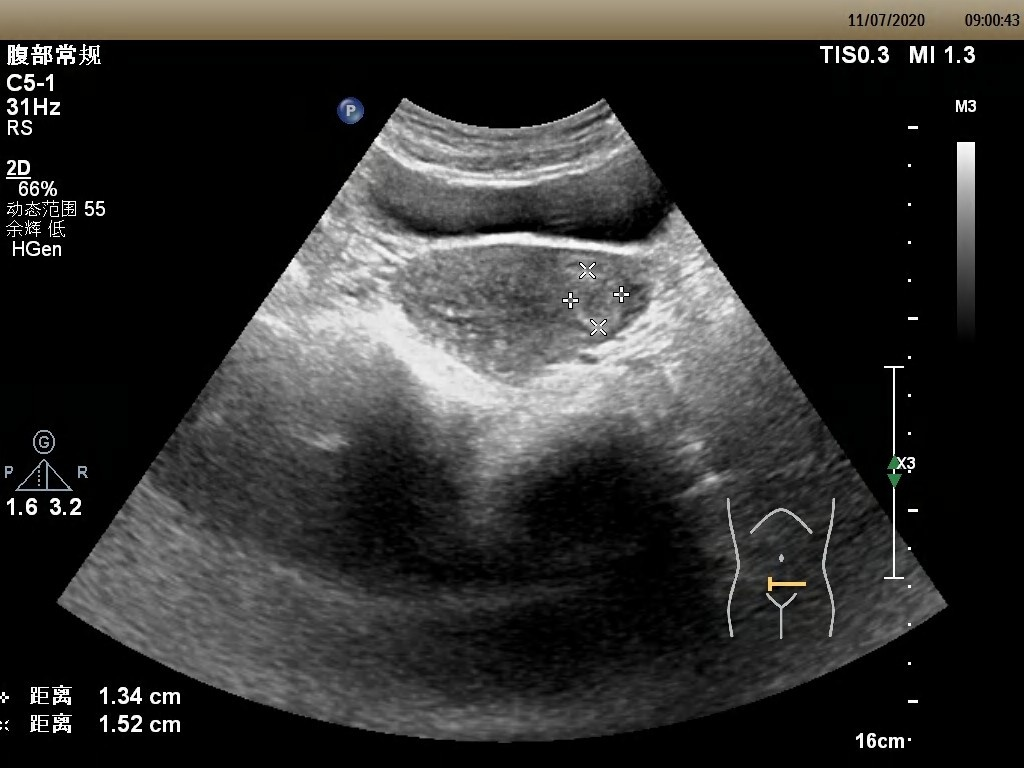肌瘤: (569, 273, 624, 331)
